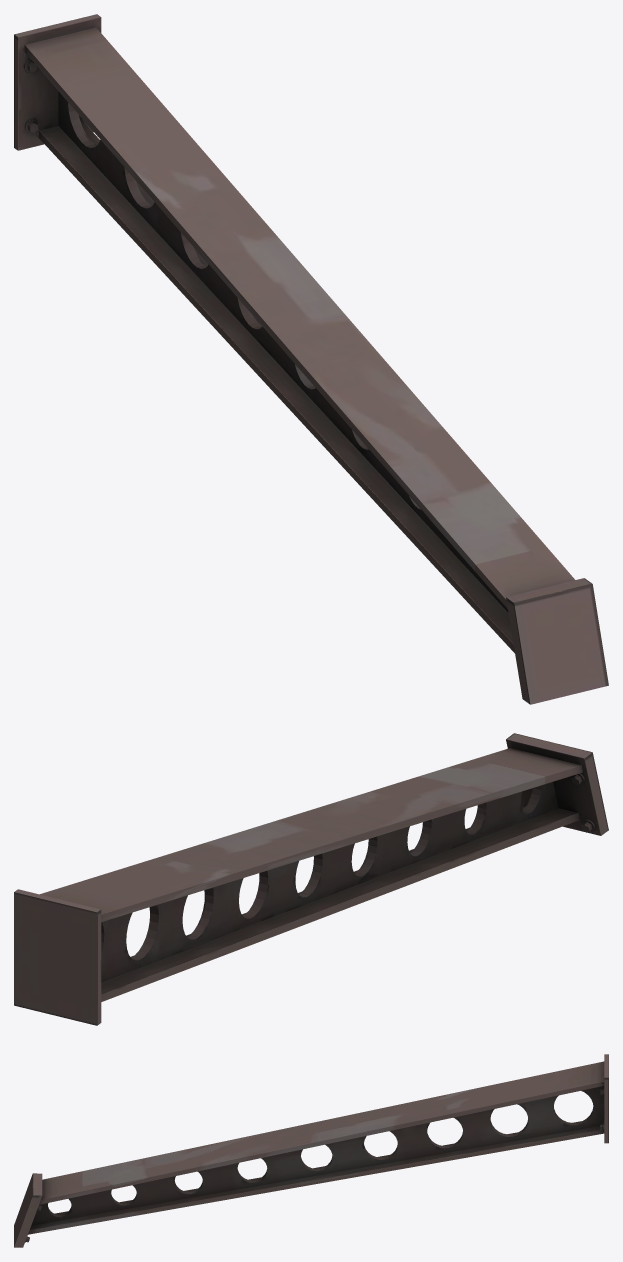
The picture shows the model from 3 angles, top to bottom: view 1: azimuth 30°, elevation 25°; view 2: azimuth 150°, elevation 25°; view 3: azimuth 270°, elevation 25°; orthographic projection. The views are drawn at different scales.
Parts seen in each view (by area): view 1: body0_model0_lod0_mesh0; view 2: body0_model0_lod0_mesh0; view 3: body0_model0_lod0_mesh0.
Part boxes in pixels (x1,y1,x2,y2): body0_model0_lod0_mesh0: [14, 14, 608, 704]; body0_model0_lod0_mesh0: [14, 733, 608, 1025]; body0_model0_lod0_mesh0: [14, 1054, 608, 1247].
Size of the model in its own units: 23.28 by 78.83 by 249.
Materials: 1 (1 with a texture image).
